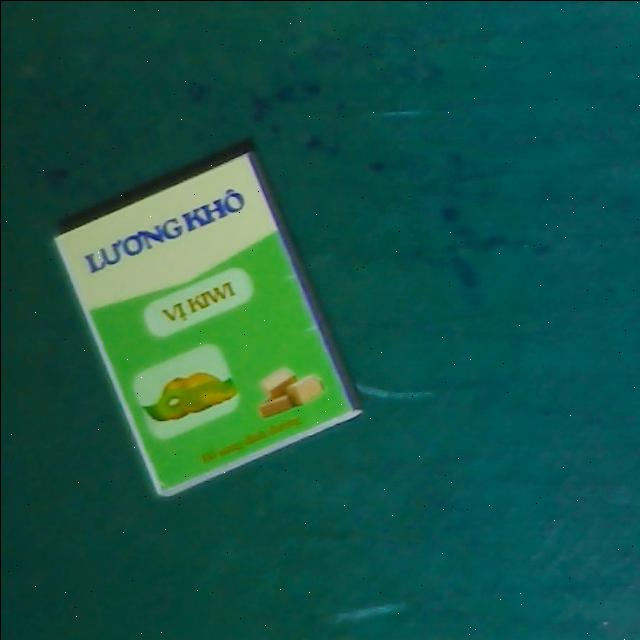kiwi: (1, 1, 640, 640)
